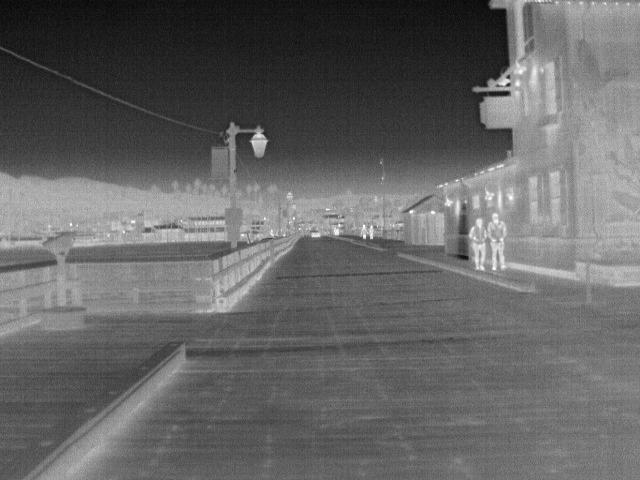car: (308, 228, 323, 239)
person: (488, 209, 506, 272), (470, 215, 488, 272), (359, 221, 371, 244)
